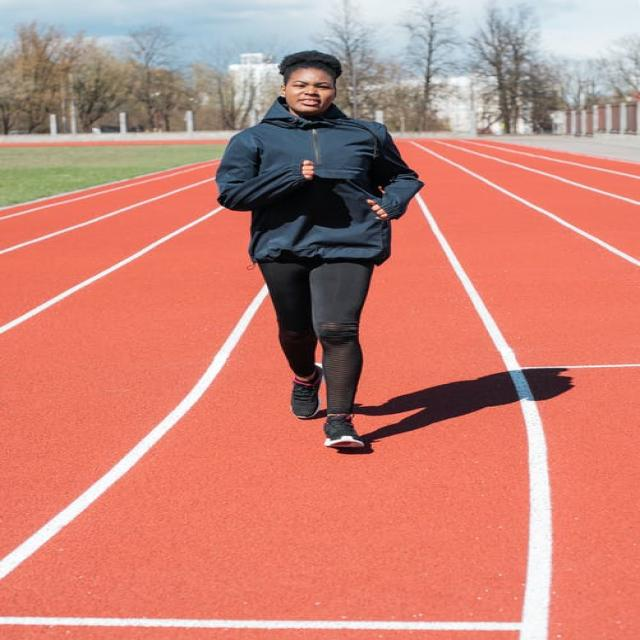running: (208, 46, 422, 452)
